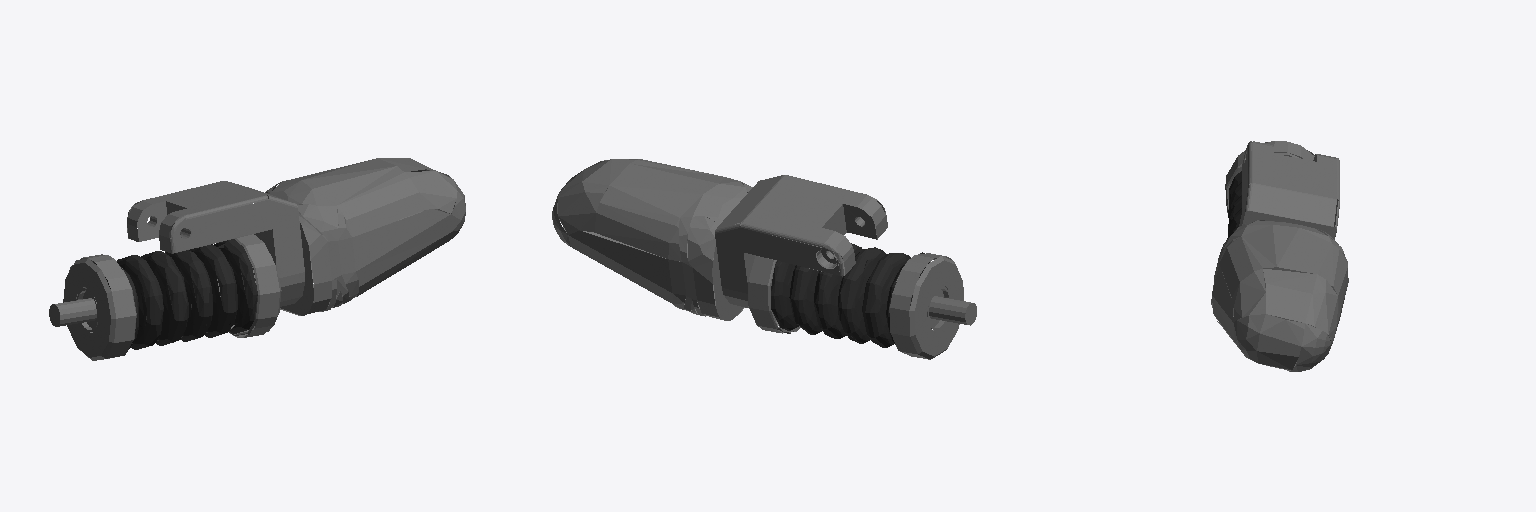
3 views of the same model, side by side, from view 1: azimuth 30°, elevation 25°; view 2: azimuth 150°, elevation 25°; view 3: azimuth 270°, elevation 25° (orthographic).
Bounding box in the file's own units: 0.0599 × 0.0202 × 0.0175.
1 materials, 1 textured.